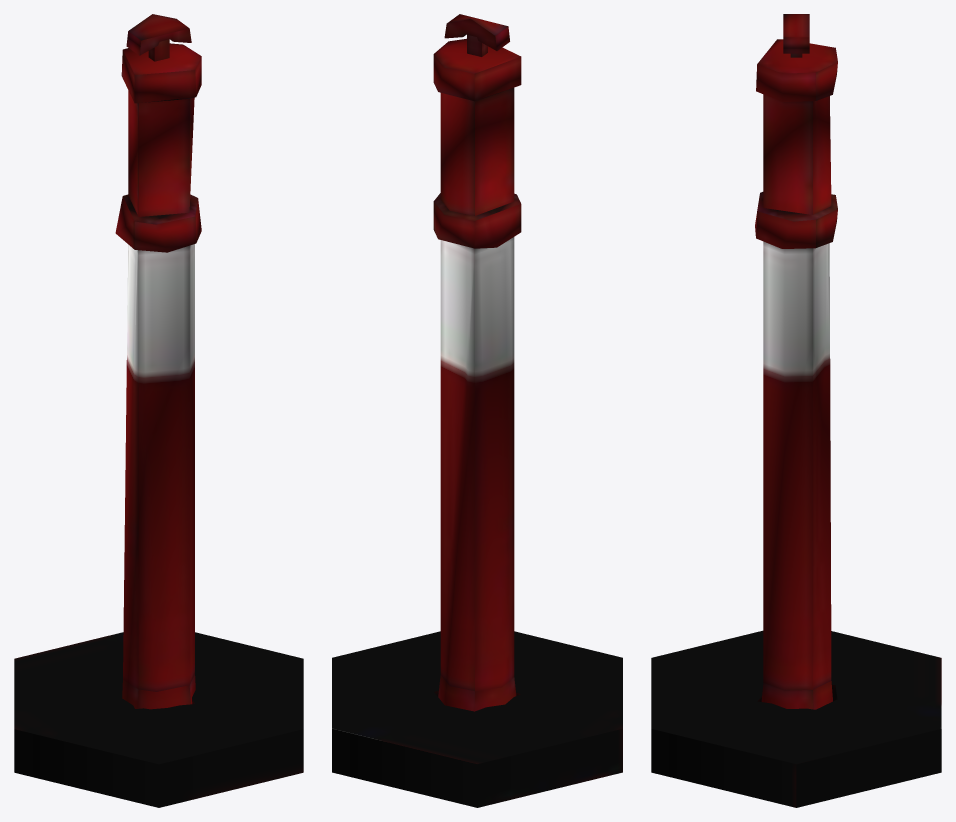
The model's file is road-pole.lod1.glb.
3 views of the same model, side by side, from view 1: azimuth 30°, elevation 25°; view 2: azimuth 150°, elevation 25°; view 3: azimuth 270°, elevation 25° (orthographic).
Parts seen in each view (by area): view 1: Object_4; view 2: Object_4; view 3: Object_4.
Boxes of the visible parts, x1,y1,x2,y2 form: Object_4: (14,14,303,807); Object_4: (332,14,622,807); Object_4: (651,14,941,807).
Size of the model in its own units: 0.463 by 1.1 by 0.401.
1 material, 1 textured.
